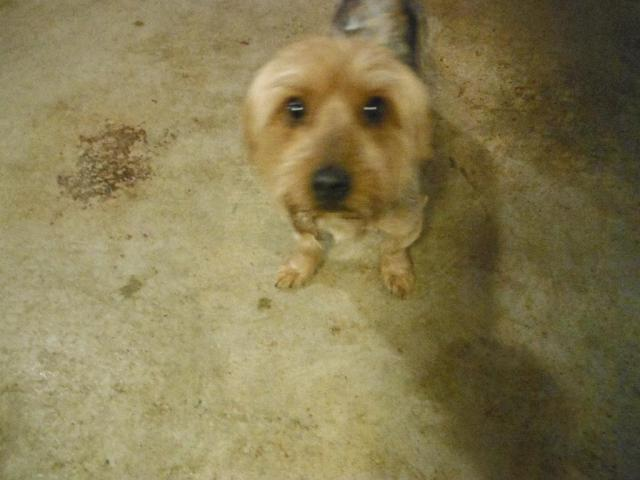Dog: (246, 0, 438, 303)
